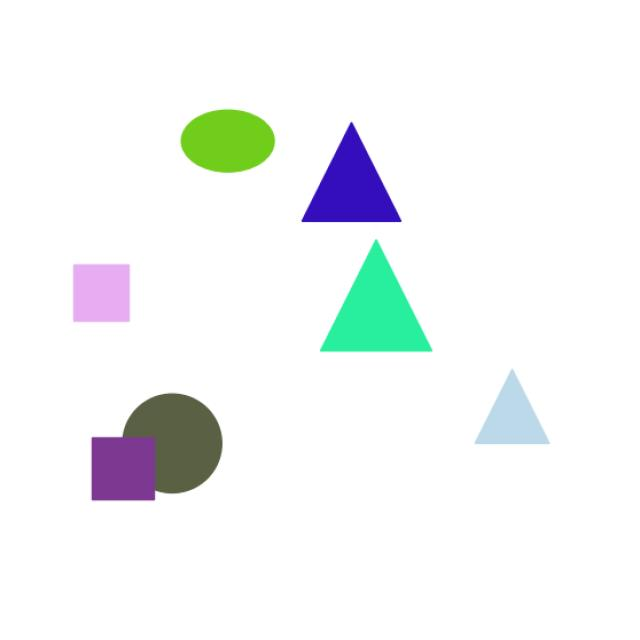Circle: (115, 387, 252, 502)
Oval: (158, 102, 288, 180)
Triangle: (308, 235, 453, 369), (287, 107, 411, 232), (462, 359, 559, 481)
square: (72, 422, 176, 510), (60, 256, 139, 332)
